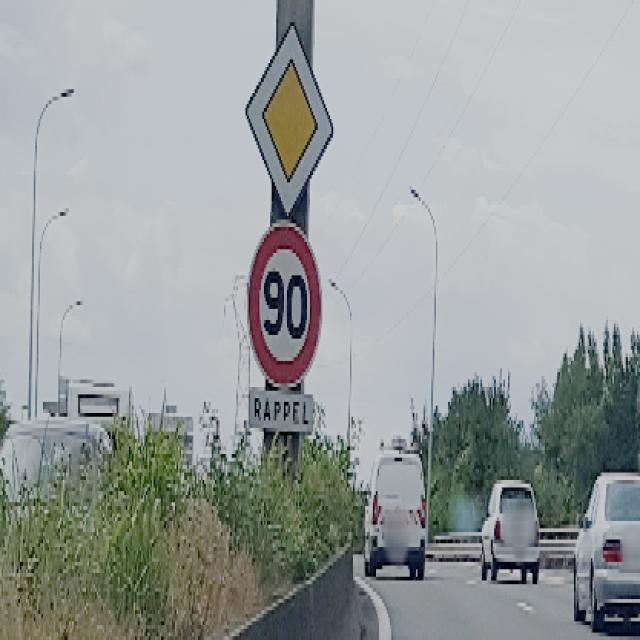speed_90: (246, 219, 324, 394)
